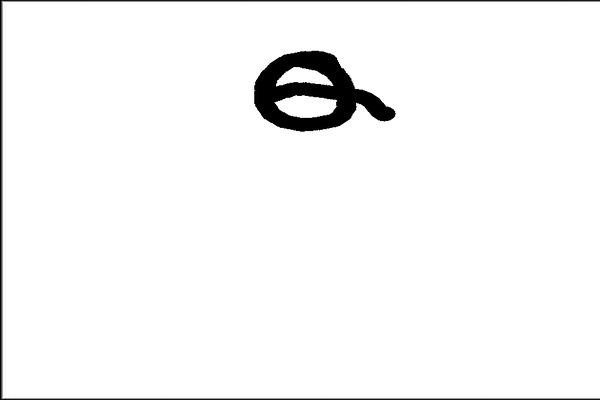Q: (236, 34, 391, 145)
